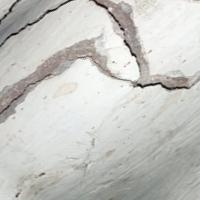crack: (0, 1, 199, 143)
